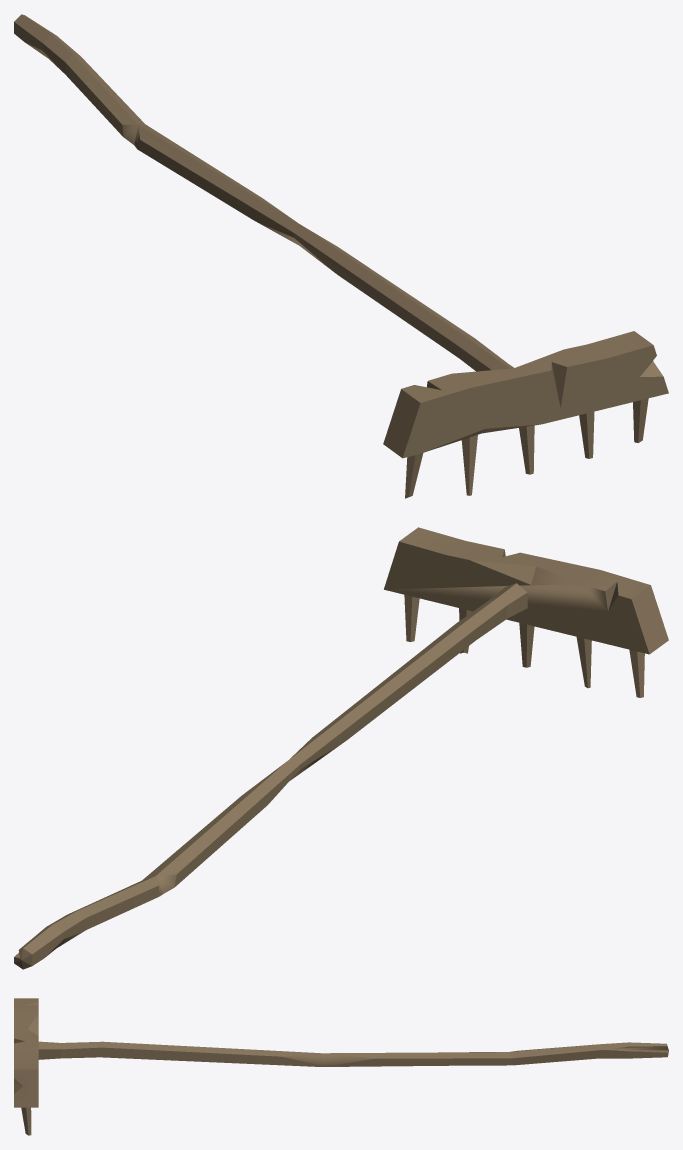
File: SM_Prop_Wooden_Broom_01.fbx
The picture shows the model from 3 angles, top to bottom: view 1: azimuth 30°, elevation 25°; view 2: azimuth 150°, elevation 25°; view 3: azimuth 270°, elevation 25°; orthographic projection. The views are drawn at different scales.
Visible parts, largest first — view 1: SM_Prop_Wooden_Broom_01; view 2: SM_Prop_Wooden_Broom_01; view 3: SM_Prop_Wooden_Broom_01.
Part boxes in pixels (bbox=[...]): SM_Prop_Wooden_Broom_01: bbox=[14, 14, 668, 498]; SM_Prop_Wooden_Broom_01: bbox=[14, 527, 668, 969]; SM_Prop_Wooden_Broom_01: bbox=[14, 998, 668, 1135].
Size of the model in its own units: 59.01 by 24 by 198.
Materials: 1 (1 with a texture image).
